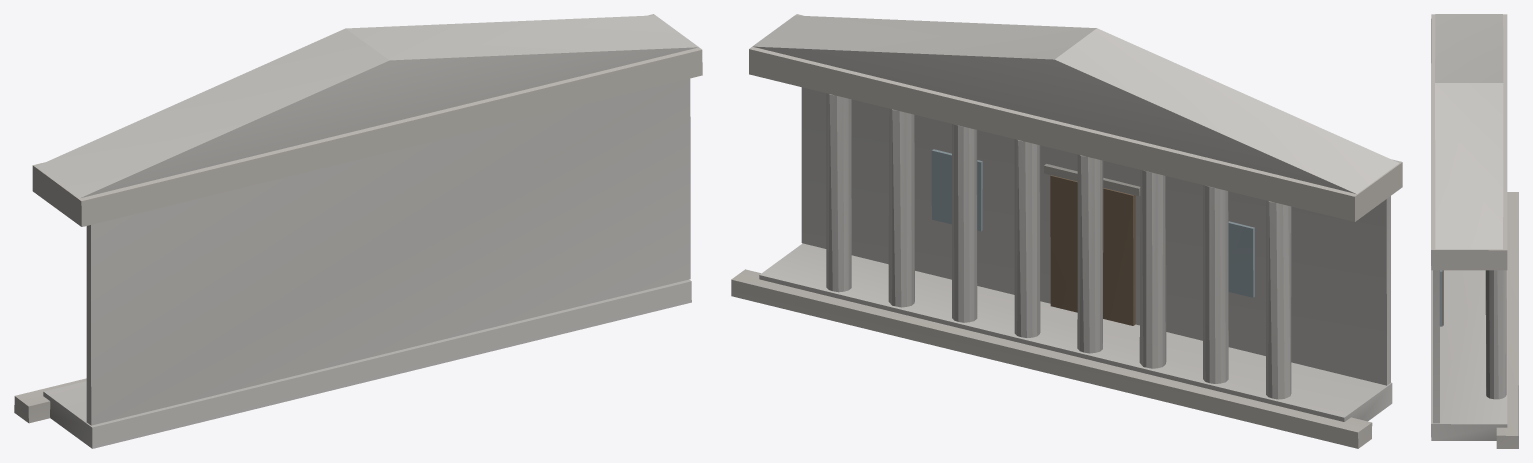
Rendered from facade_townhall_low.glb.
3 renders of one model, left to right at view 1: azimuth 30°, elevation 25°; view 2: azimuth 150°, elevation 25°; view 3: azimuth 270°, elevation 25°, orthographic. The views are drawn at different scales.
Size of the model in its own units: 29.96 by 13.97 by 4.56.
